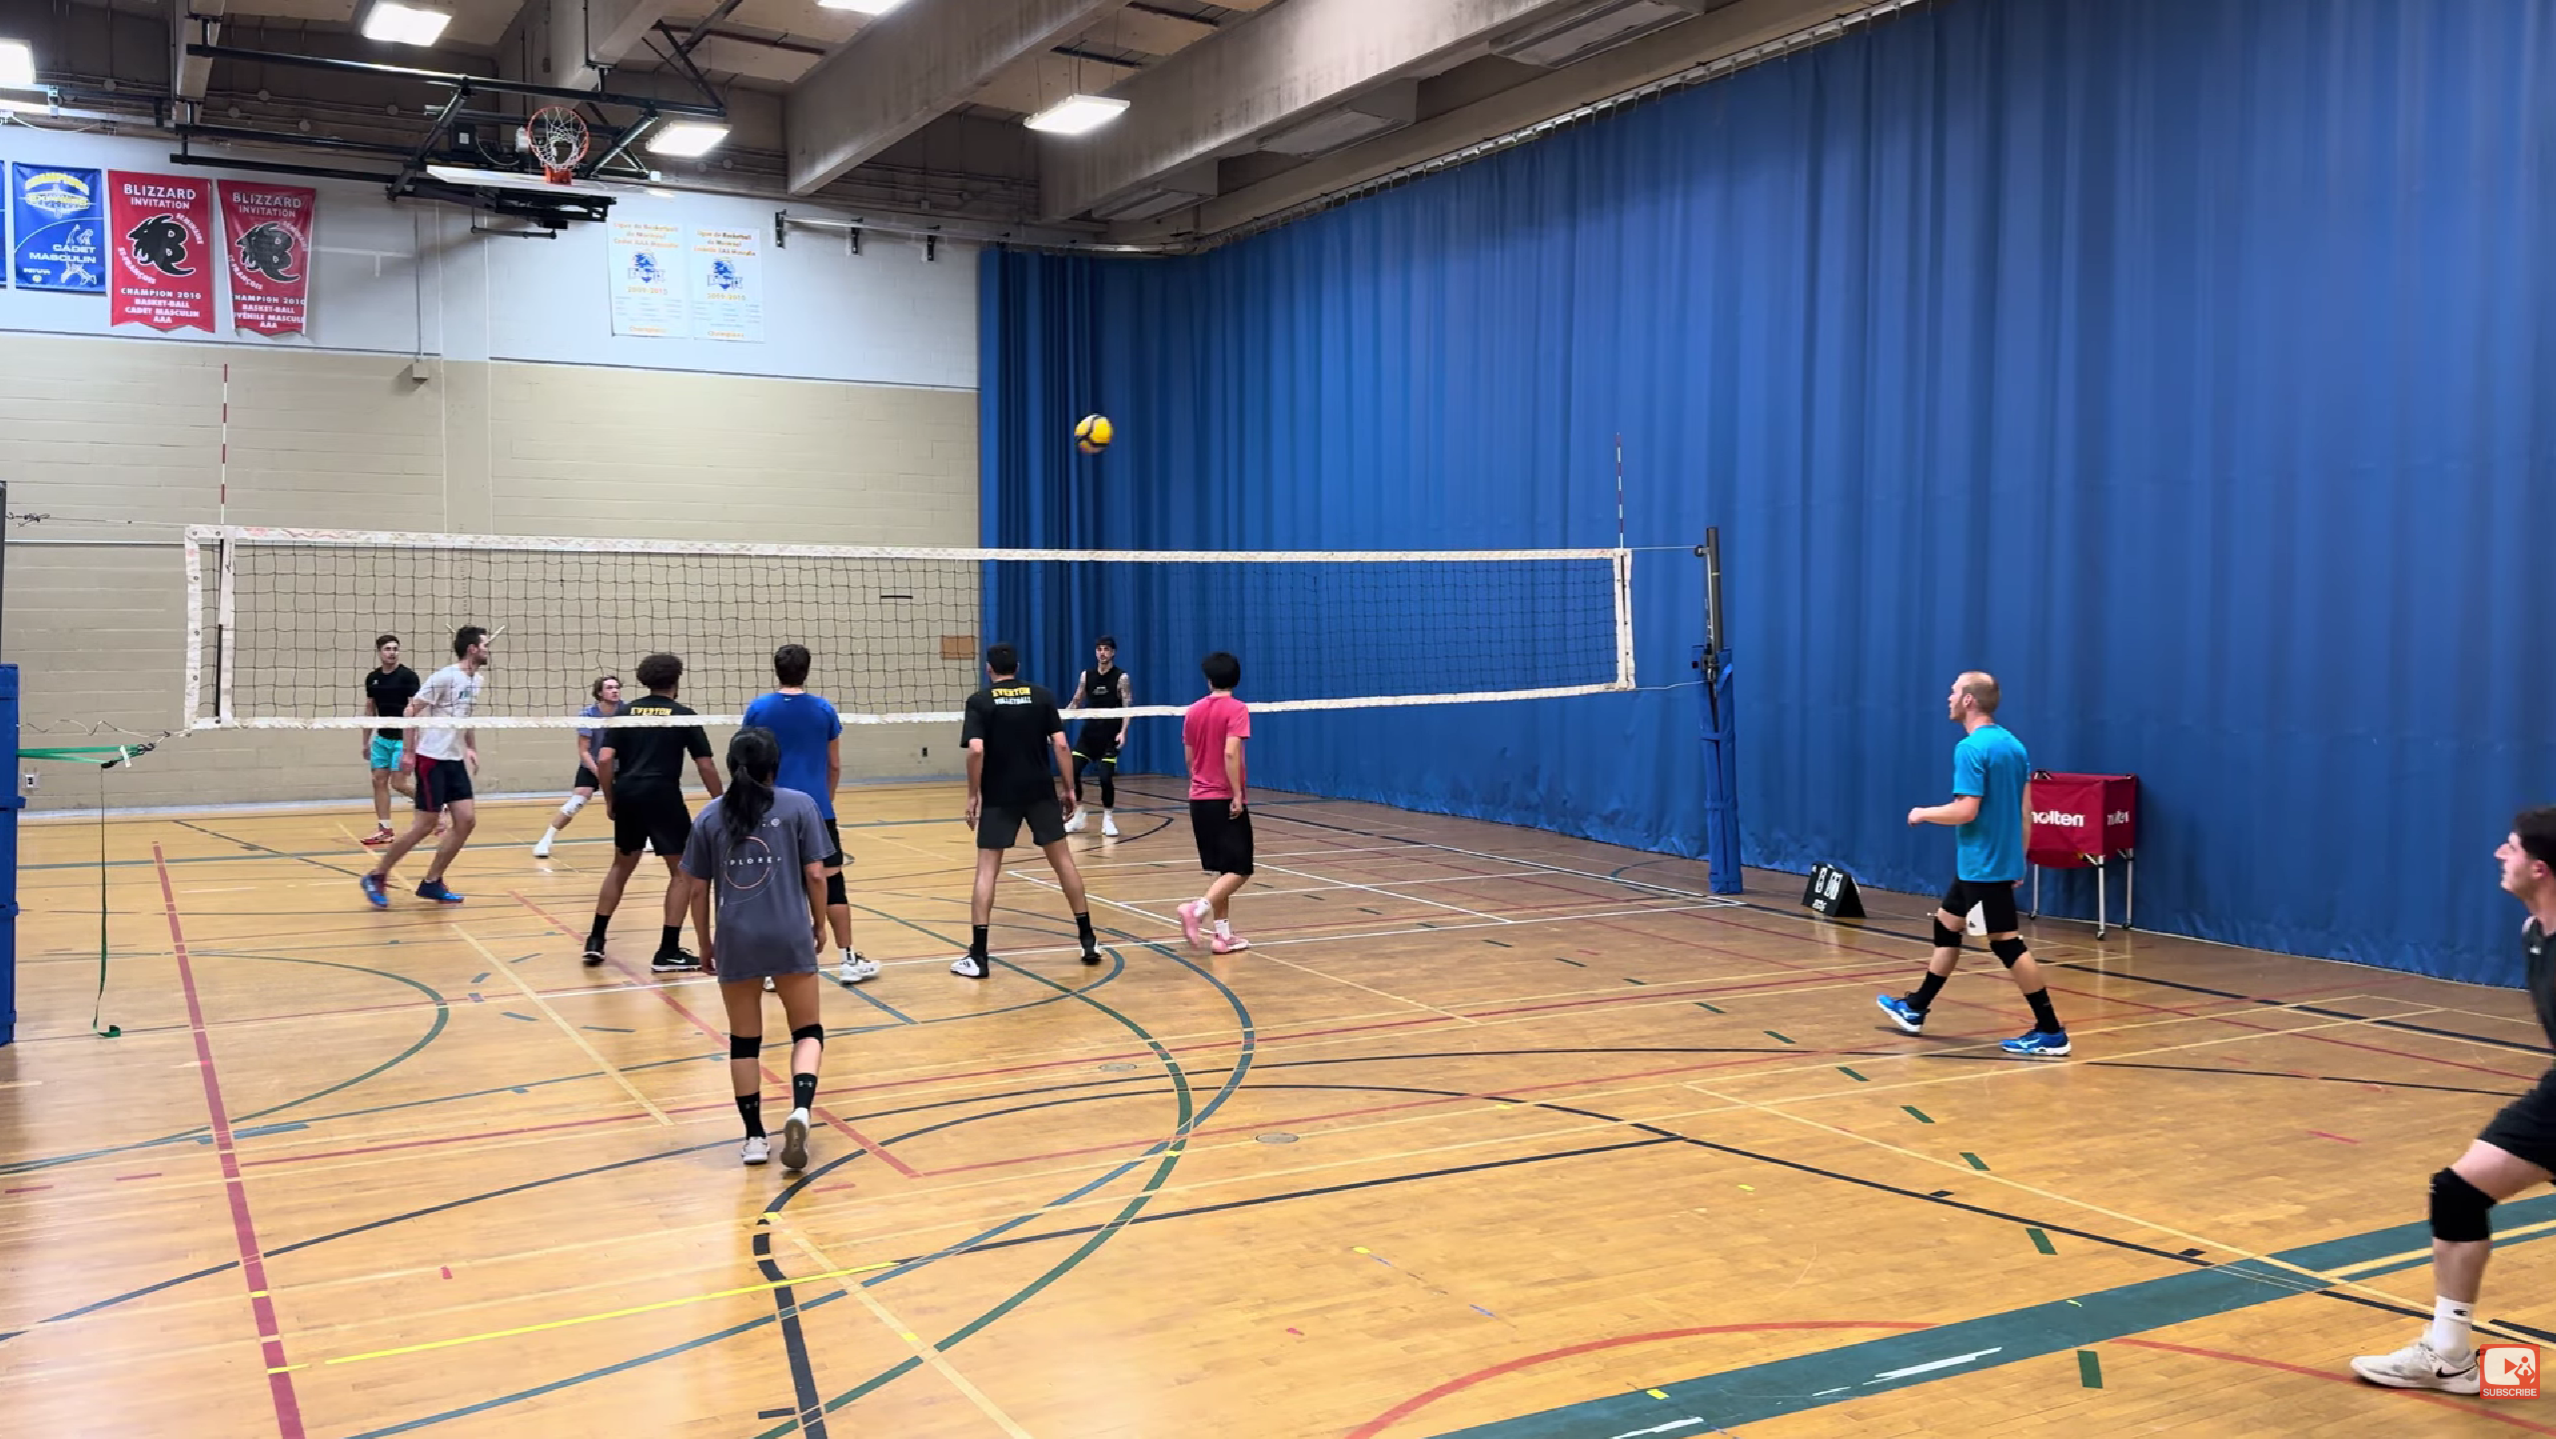Ball: (1071, 411, 1115, 456)
